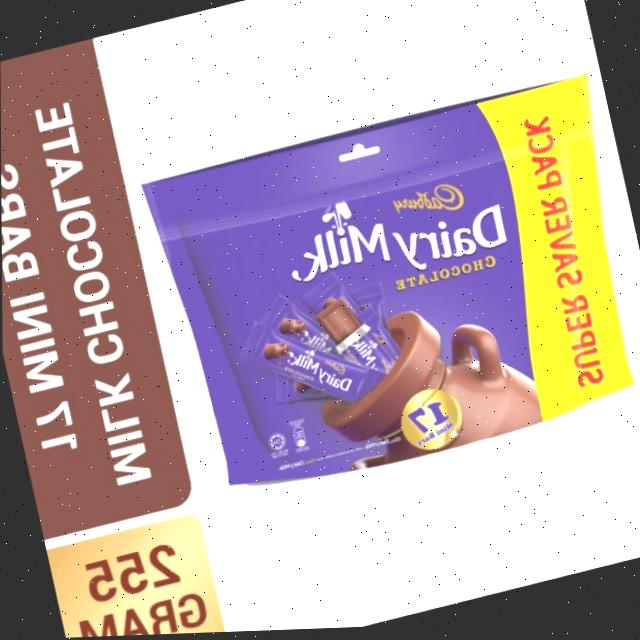cadbury: (144, 72, 640, 507), (236, 295, 383, 436)
